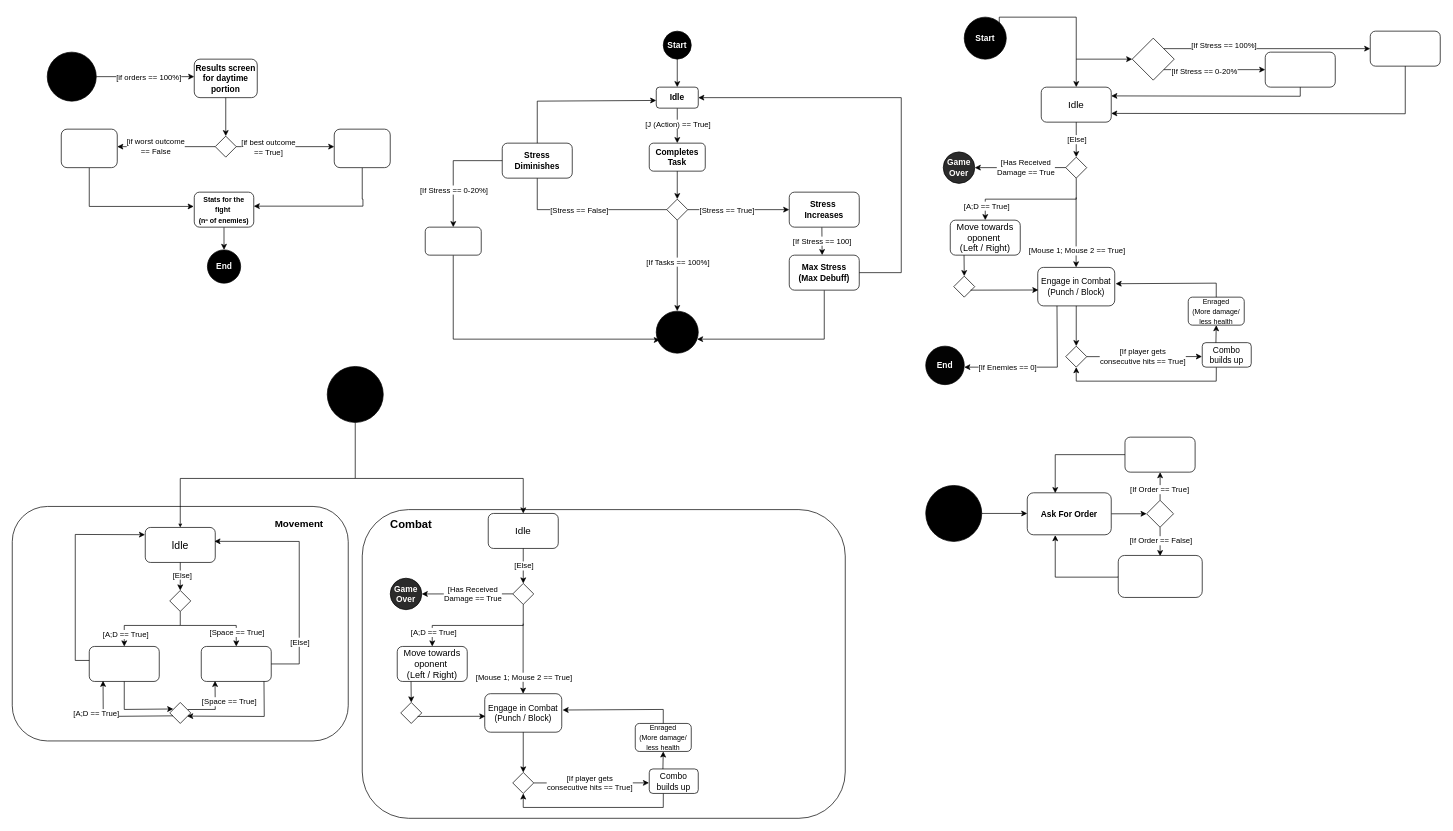
Image size: 1453x831. Some labels were removed from this diagram. The centre of each missing label's shape, as x and y in pixels:
"+ 30 Stress" goes at pixel 1160 576.
"+0 stress (-20 stress if player already has stress)" goes at pixel 1159 454.
"Customers Spawn" goes at pixel 953 513.
"Fight club" goes at pixel 677 331.
"In-game" goes at pixel 71 76.
"Jump" goes at pixel 236 663.
"Max Buffs (+Speed and Reflexes)" goes at pixel 1300 69.
"Max Debuffs (-Damage and Speed)" goes at pixel 1405 48.
"Min. Stress (Max Buffs)" goes at pixel 453 240.
"Move to Direction (Left / Right)" goes at pixel 124 663.
"SPAWN" goes at pixel 355 394.
"Stats menu (buffs)" goes at pixel 362 148.
"Stats menu (nerfs)" goes at pixel 89 148.
